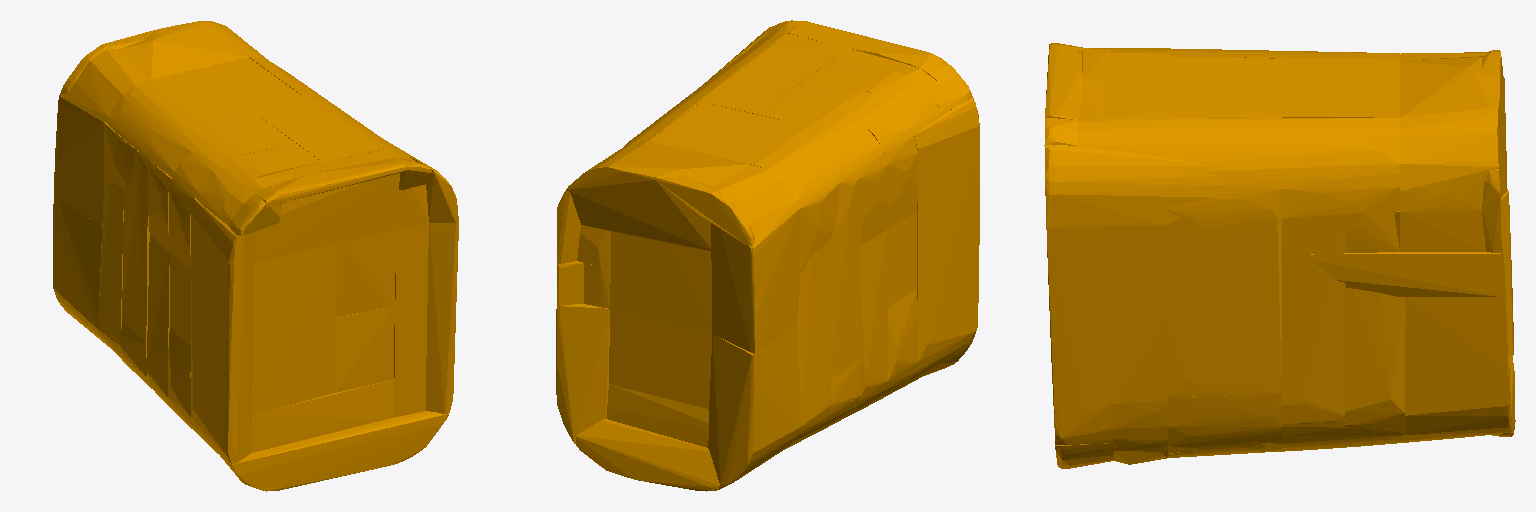
robot.urdf — can-corned:
<?xml version="1.0" ?>
<robot name="can-corned">
  <link name="baseLink">
    <contact>
      <lateral_friction value="1.0"/>
      <inertia_scaling value="3.0"/>
    </contact>
    <inertial>
      <origin rpy="0 0 0" xyz="0.000 0.000 0.000"/>
       <mass value=".1"/>
       <inertia ixx="1" ixy="0.0" ixz="0.0" iyy="1" iyz="0.0" izz="1"/>
    </inertial>
    <visual>
      <origin rpy="0 0 0" xyz="0 0 0"/>
      <geometry>
        <mesh filename="can/can-corned_beef.obj" scale="1.0 1.0 1.0"/>
      </geometry>
    </visual>
    <collision>
      <origin rpy="0 0 0" xyz="0 0 0"/>
      <geometry>
        <mesh filename="../collision/can/can-corned_beef.obj" scale="1.0 1.0 1.0"/>
      </geometry>
    </collision>
  </link>
</robot>
        

--- What the picture shows (computed from the rendered views, not written in the file) ---
Views: 3 orthographic renders of the robot side by side, from view 1: azimuth 30°, elevation 25°; view 2: azimuth 150°, elevation 25°; view 3: azimuth 270°, elevation 25°.
Model can-corned with 1 links and 0 joints (none), rooted at baseLink, posed all joints at 0.
Links seen in each view (by area): view 1: baseLink; view 2: baseLink; view 3: baseLink.
Link boxes in pixels (x1=…): baseLink: x1=53, y1=21, x2=458, y2=491; baseLink: x1=556, y1=20, x2=979, y2=491; baseLink: x1=1044, y1=43, x2=1515, y2=468.
Bounding box of the posed robot: 0.063 × 0.0983 × 0.0823 m (x, y, z).
1 mesh visuals loaded from 1 distinct referenced files (1 OBJ).